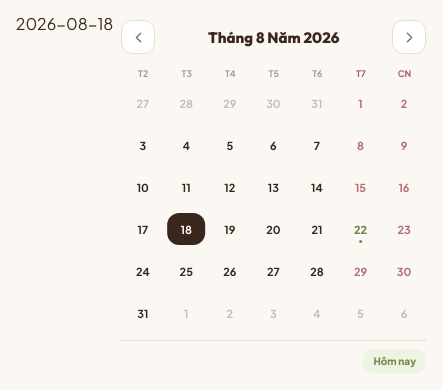
Test: Haven reusable primitives › selects a single calendar day
Click the cell "19": [230, 229] box [208,210,252,248]
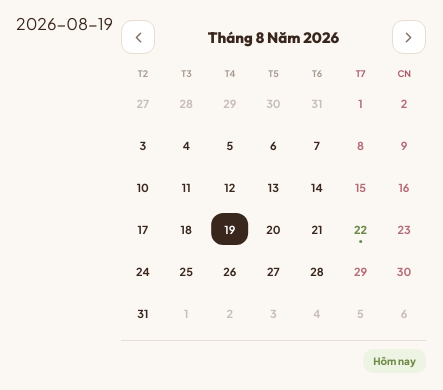
Result: the text "2026-08-19" is shown at [16,13,113,34]
